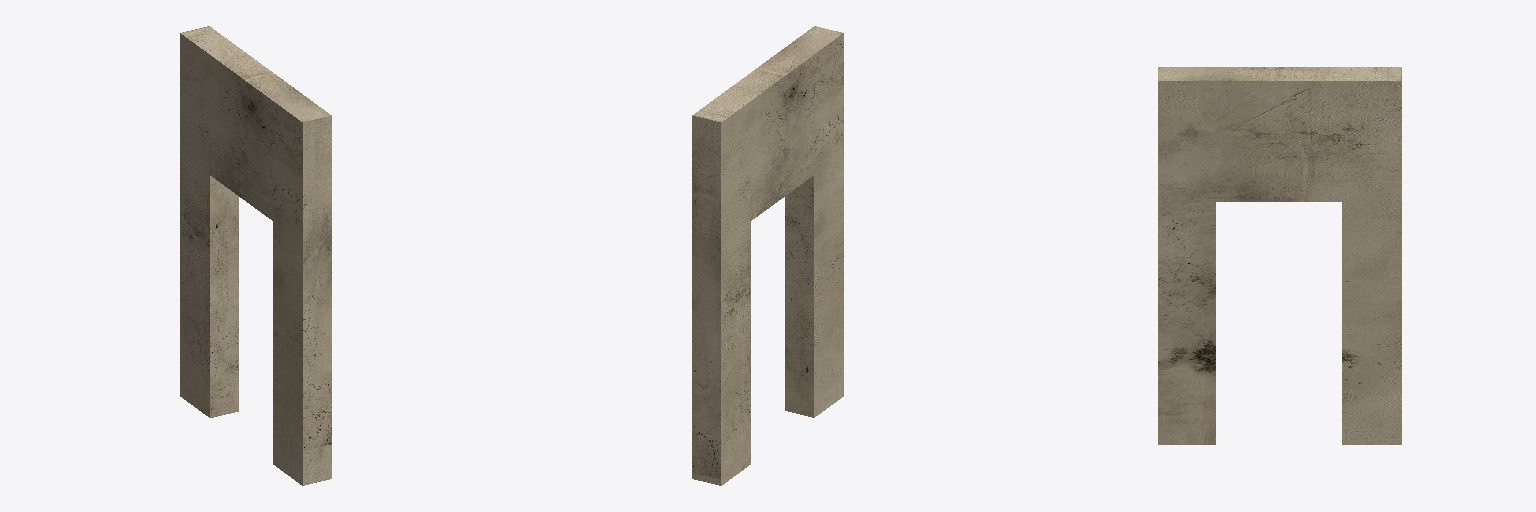
3 views of the same model, side by side, from view 1: azimuth 30°, elevation 25°; view 2: azimuth 150°, elevation 25°; view 3: azimuth 270°, elevation 25° (orthographic).
Visible parts, largest first — view 1: Box02; view 2: Box02; view 3: Box02.
Boxes of the visible parts, box(x1,y1,x2,y2) form: Box02: box(180, 26, 331, 485); Box02: box(692, 26, 843, 485); Box02: box(1158, 67, 1401, 444).
Bounding box in the file's own units: 0.2933 × 3.5 × 2.14.
Materials: 1 (1 with a texture image).